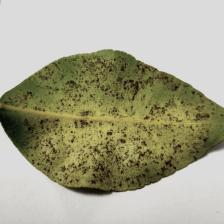canker: (43, 75, 187, 179)
